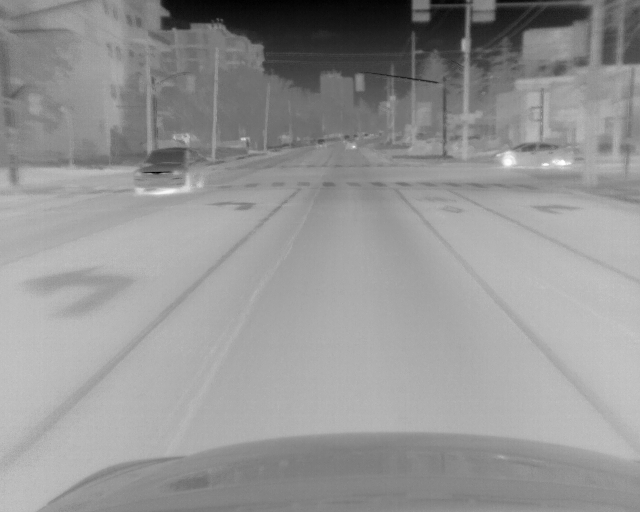car: (134, 147, 206, 194), (494, 140, 575, 170), (344, 138, 357, 150), (314, 138, 327, 149)
